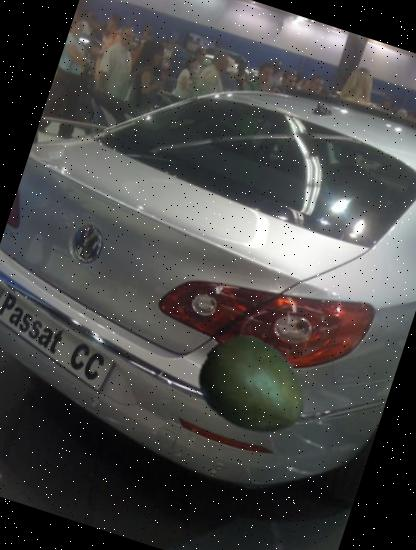Mango: (180, 317, 324, 461)
